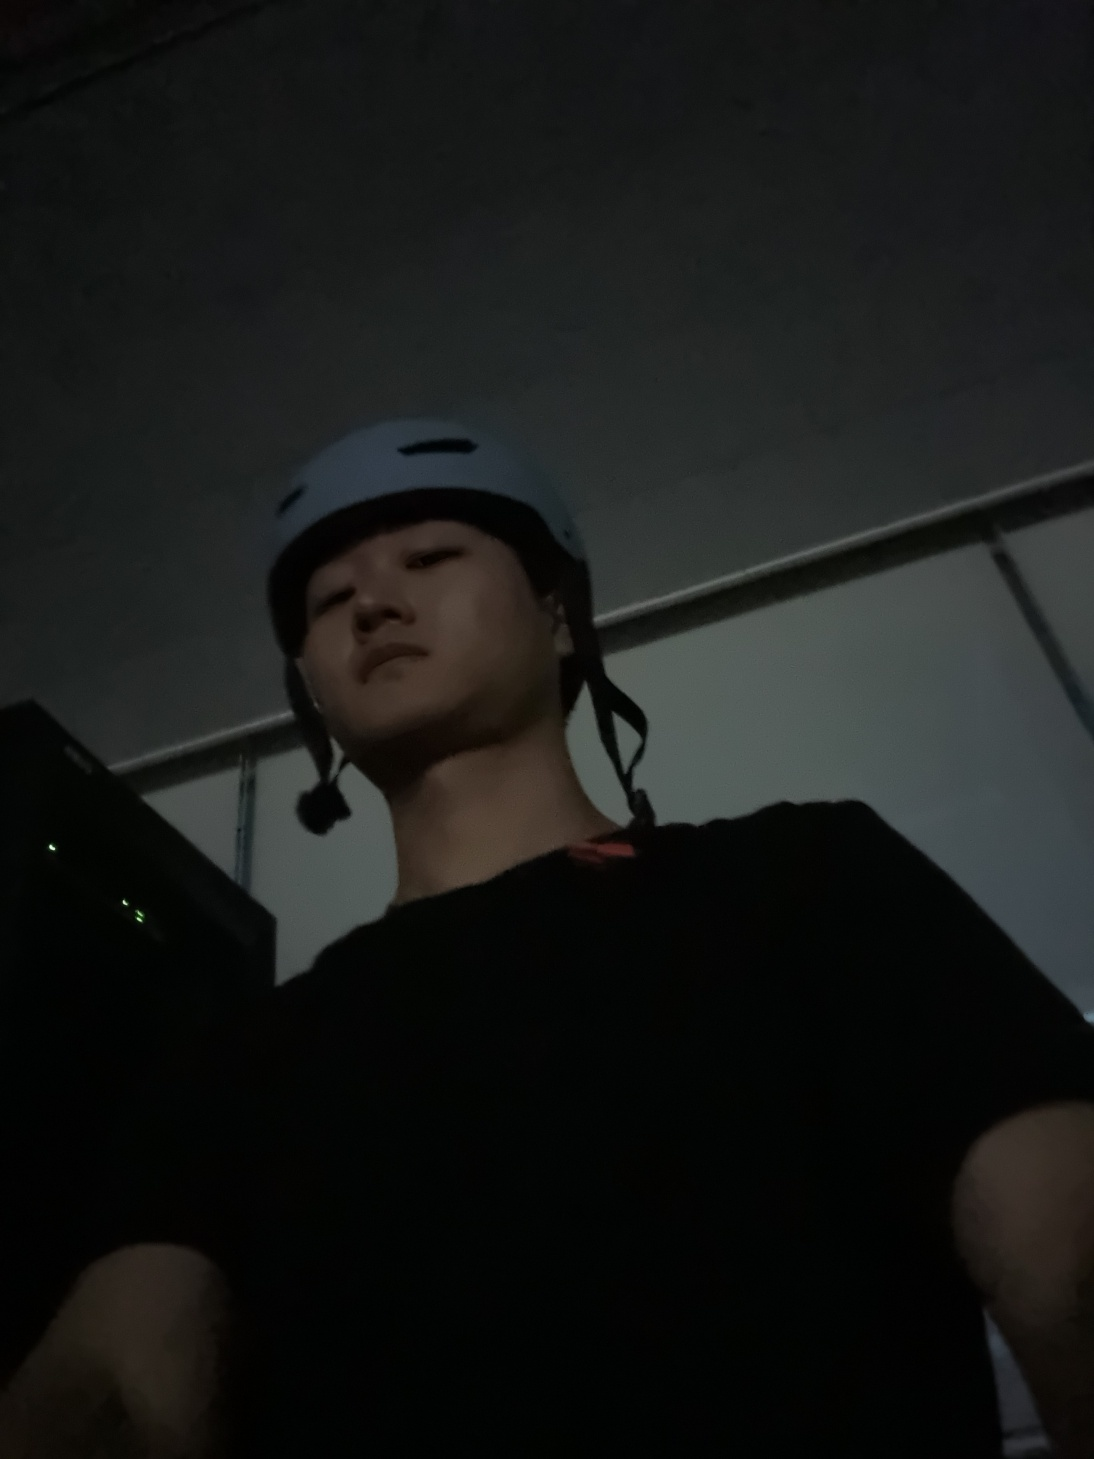Helmet: (206, 362, 706, 847)
